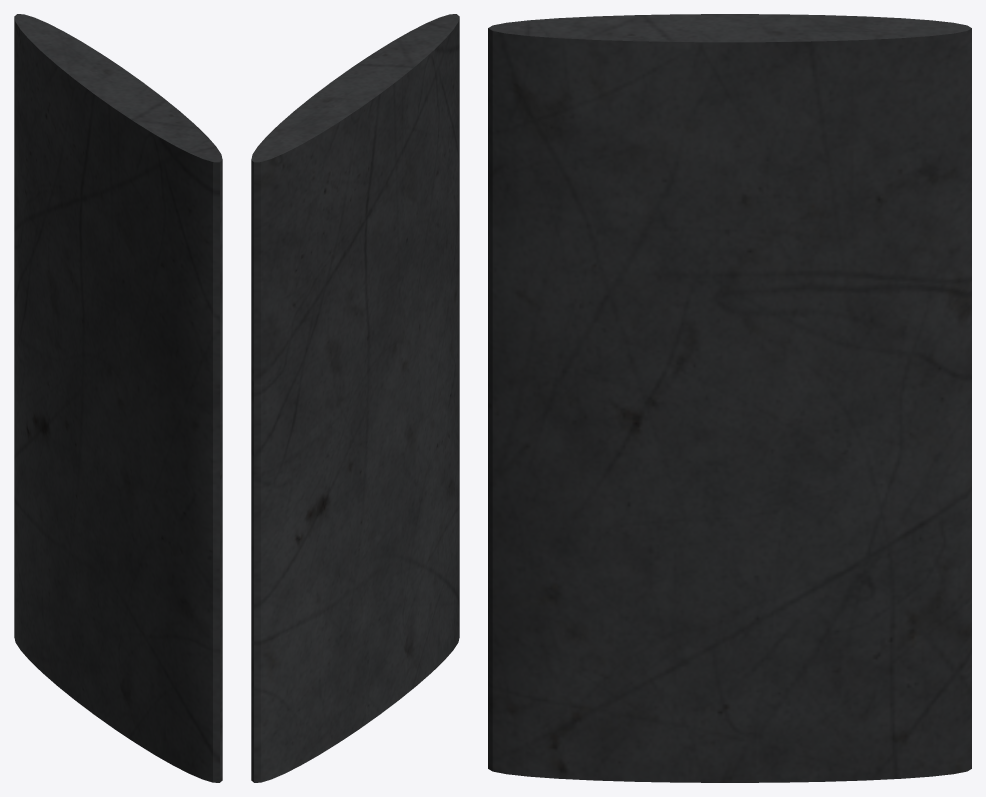
Rendered from topTailFin.glb.
3 views of the same model, side by side, from view 1: azimuth 30°, elevation 25°; view 2: azimuth 150°, elevation 25°; view 3: azimuth 270°, elevation 25° (orthographic). The views are drawn at different scales.
Parts seen in each view (by area): view 1: Cylinder.020_Material.001_0; view 2: Cylinder.020_Material.001_0; view 3: Cylinder.020_Material.001_0.
Part boxes in pixels (<box>): Cylinder.020_Material.001_0: <box>14,14,222,782</box>; Cylinder.020_Material.001_0: <box>251,14,459,782</box>; Cylinder.020_Material.001_0: <box>488,14,971,782</box>.
Size of the model in its own units: 10.75 by 131 by 77.5.
Materials: 1 (1 with a texture image).
